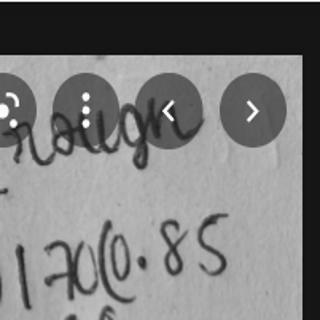.: (135, 249, 151, 271)
0: (74, 237, 98, 297), (109, 234, 131, 282)
1: (14, 239, 31, 311)
5: (196, 211, 231, 279)
7: (42, 239, 77, 303)
8: (160, 220, 186, 276)
